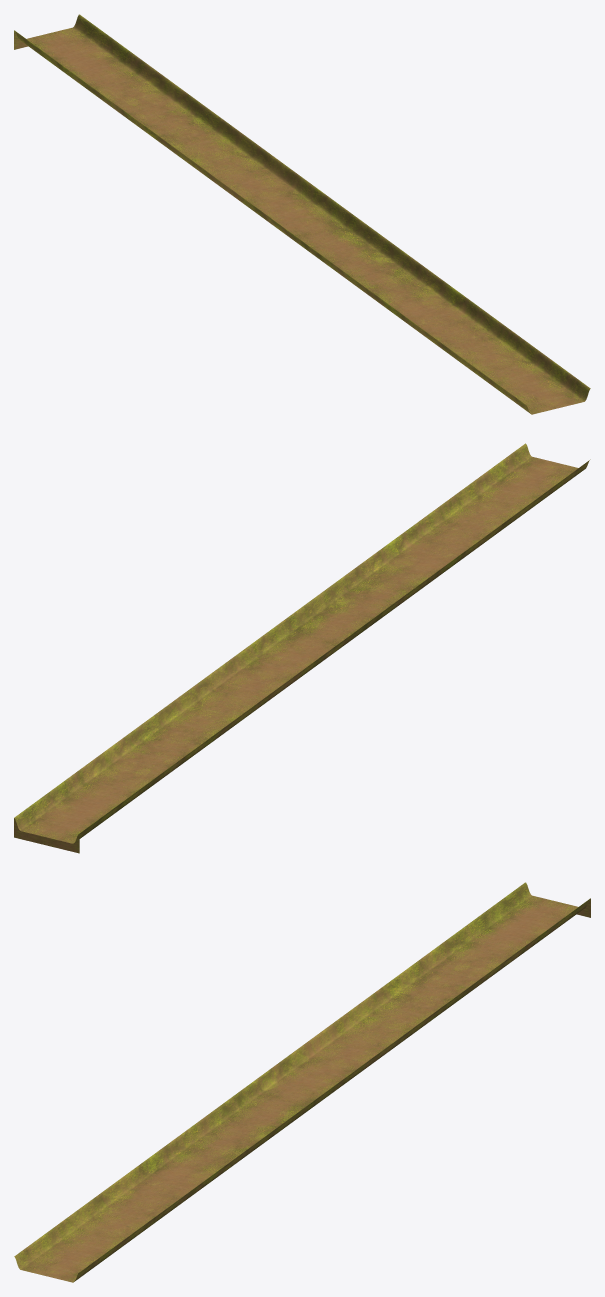
The model's file is michi_m140.fbx.
3 views of the same model, one above another, from view 1: azimuth 30°, elevation 25°; view 2: azimuth 150°, elevation 25°; view 3: azimuth 330°, elevation 25° (orthographic).
Visible parts, largest first — view 1: m140; view 2: m140; view 3: m140.
Part boxes in pixels (x1,y1,x2,y2): m140: [14, 14, 590, 414]; m140: [14, 443, 590, 853]; m140: [14, 882, 590, 1282].
Size of the model in its own units: 1035 by 297 by 14000.
Materials: 1 (1 with a texture image).
